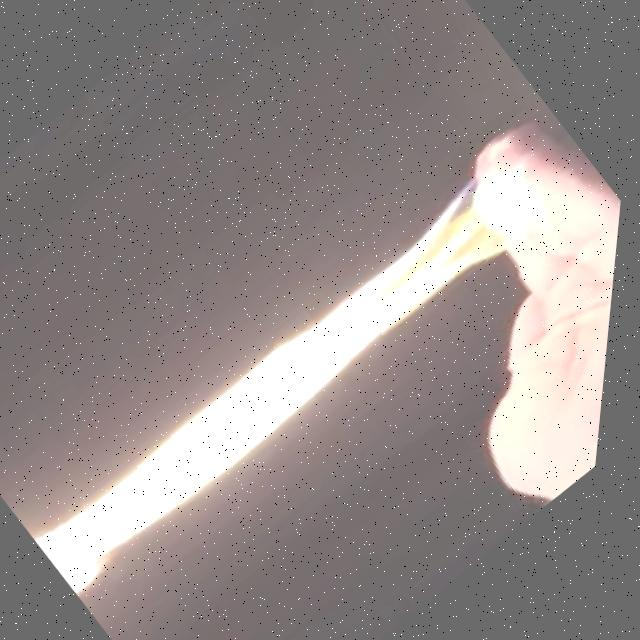Fire: (20, 128, 587, 613)
